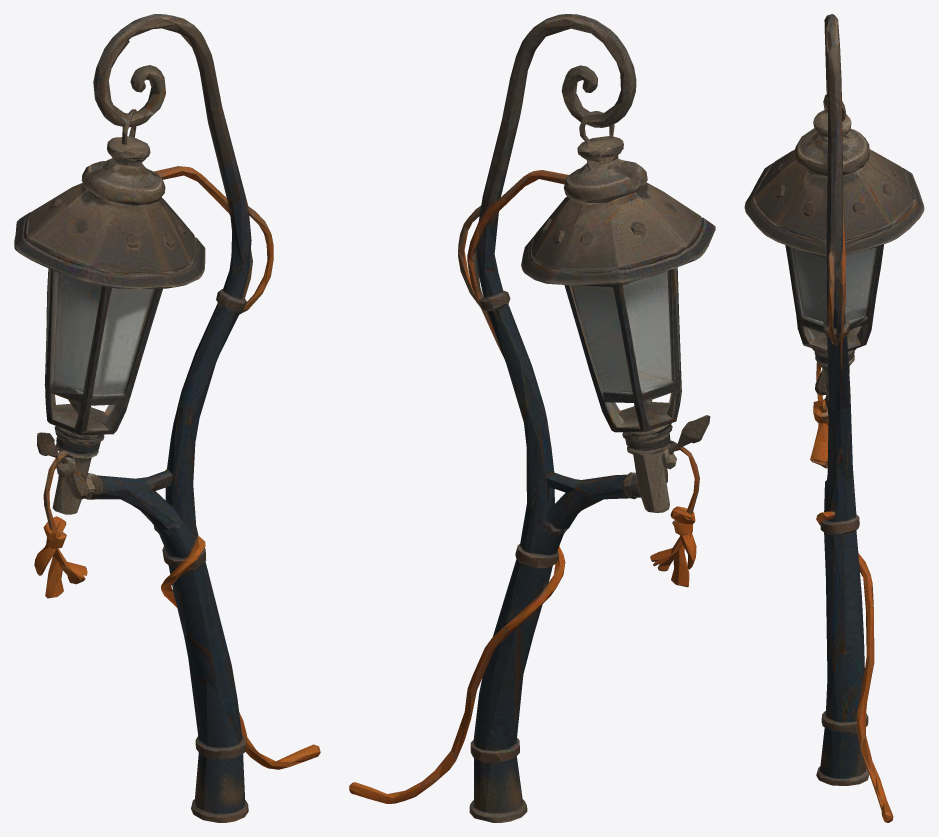
Rendered from deco_lampadaire.glb.
The picture shows the model from 3 angles, left to right: view 1: azimuth 30°, elevation 25°; view 2: azimuth 150°, elevation 25°; view 3: azimuth 270°, elevation 25°; orthographic projection. The views are drawn at different scales.
Bounding box in the file's own units: 0.7965 × 1.9 × 0.4288.
1 material, 1 textured.
